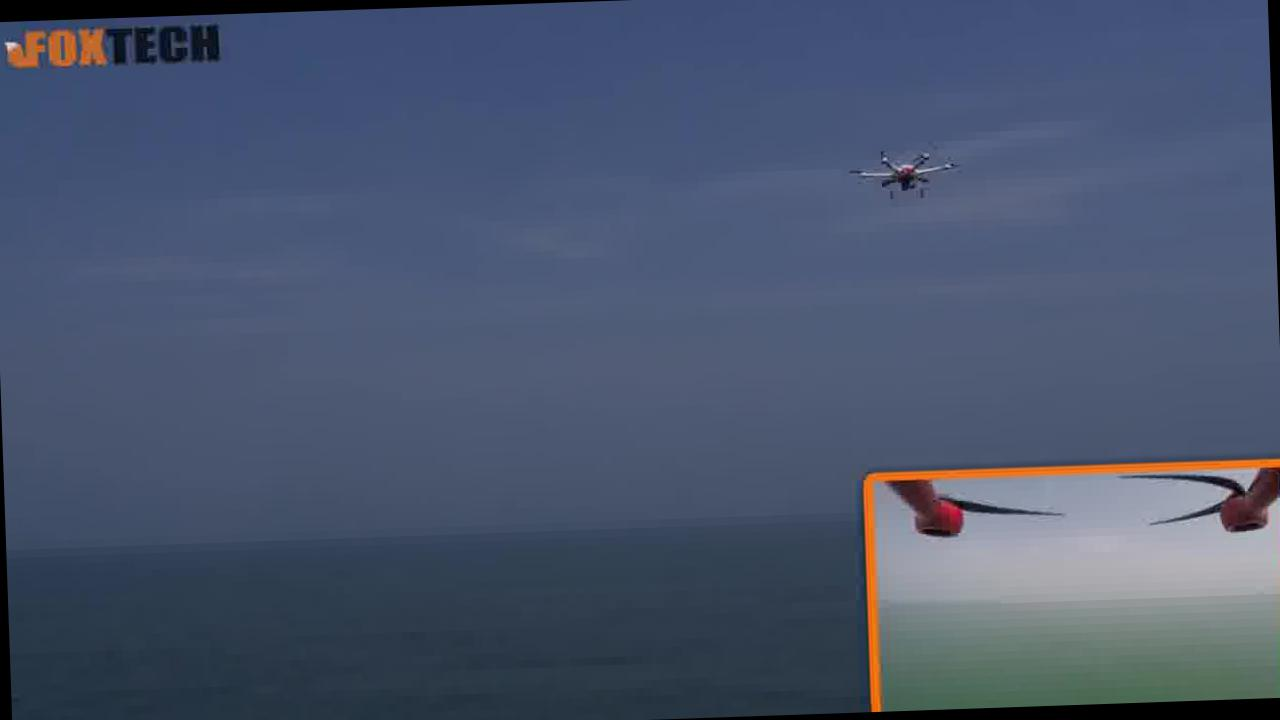drone: (848, 128, 972, 224)
